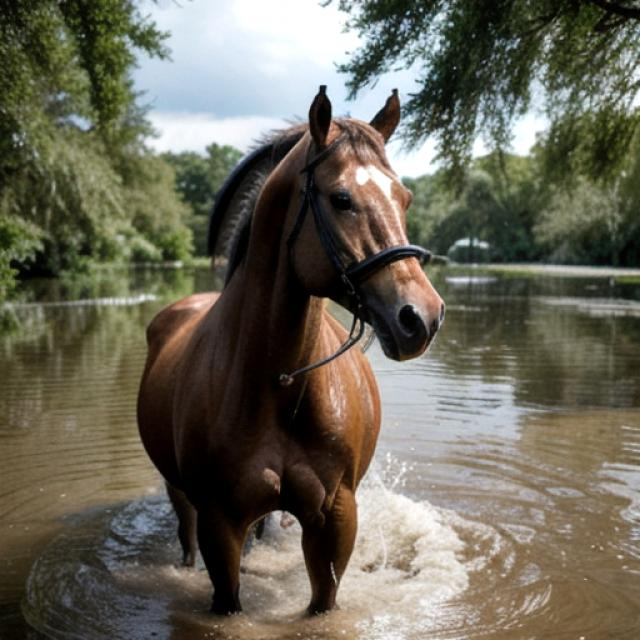horse: (109, 85, 453, 627)
